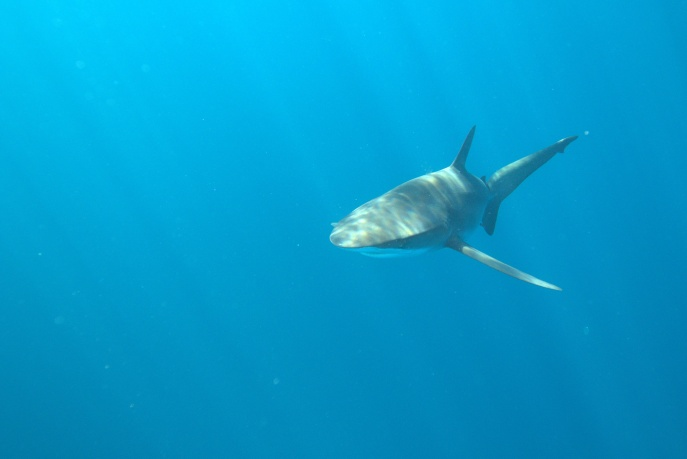Sedoso: (311, 103, 608, 310)
